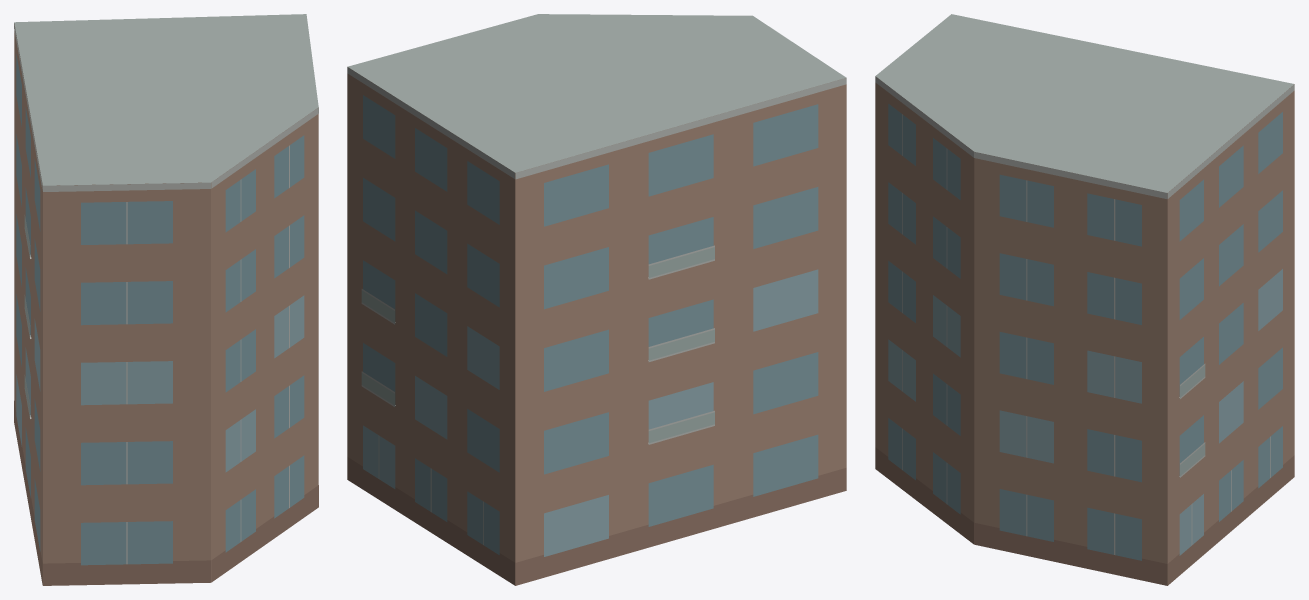
File: survey-upis-32854336.glb
3 renders of one model, left to right at view 1: azimuth 30°, elevation 25°; view 2: azimuth 150°, elevation 25°; view 3: azimuth 270°, elevation 25°, orthographic. The views are drawn at different scales.
Parts seen in each view (by area): view 1: survey-upis-32854336.tmp; view 2: survey-upis-32854336.tmp; view 3: survey-upis-32854336.tmp.
Boxes of the visible parts, x1,y1,x2,y2 form: survey-upis-32854336.tmp: [14, 14, 318, 585]; survey-upis-32854336.tmp: [347, 14, 846, 585]; survey-upis-32854336.tmp: [875, 14, 1294, 585].
Size of the model in its own units: 14.91 by 15.25 by 14.76.
